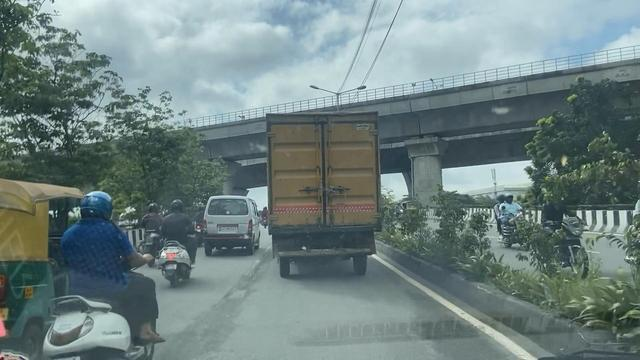HMV: (267, 113, 378, 277)
LMV: (202, 194, 249, 254), (156, 201, 189, 283)
